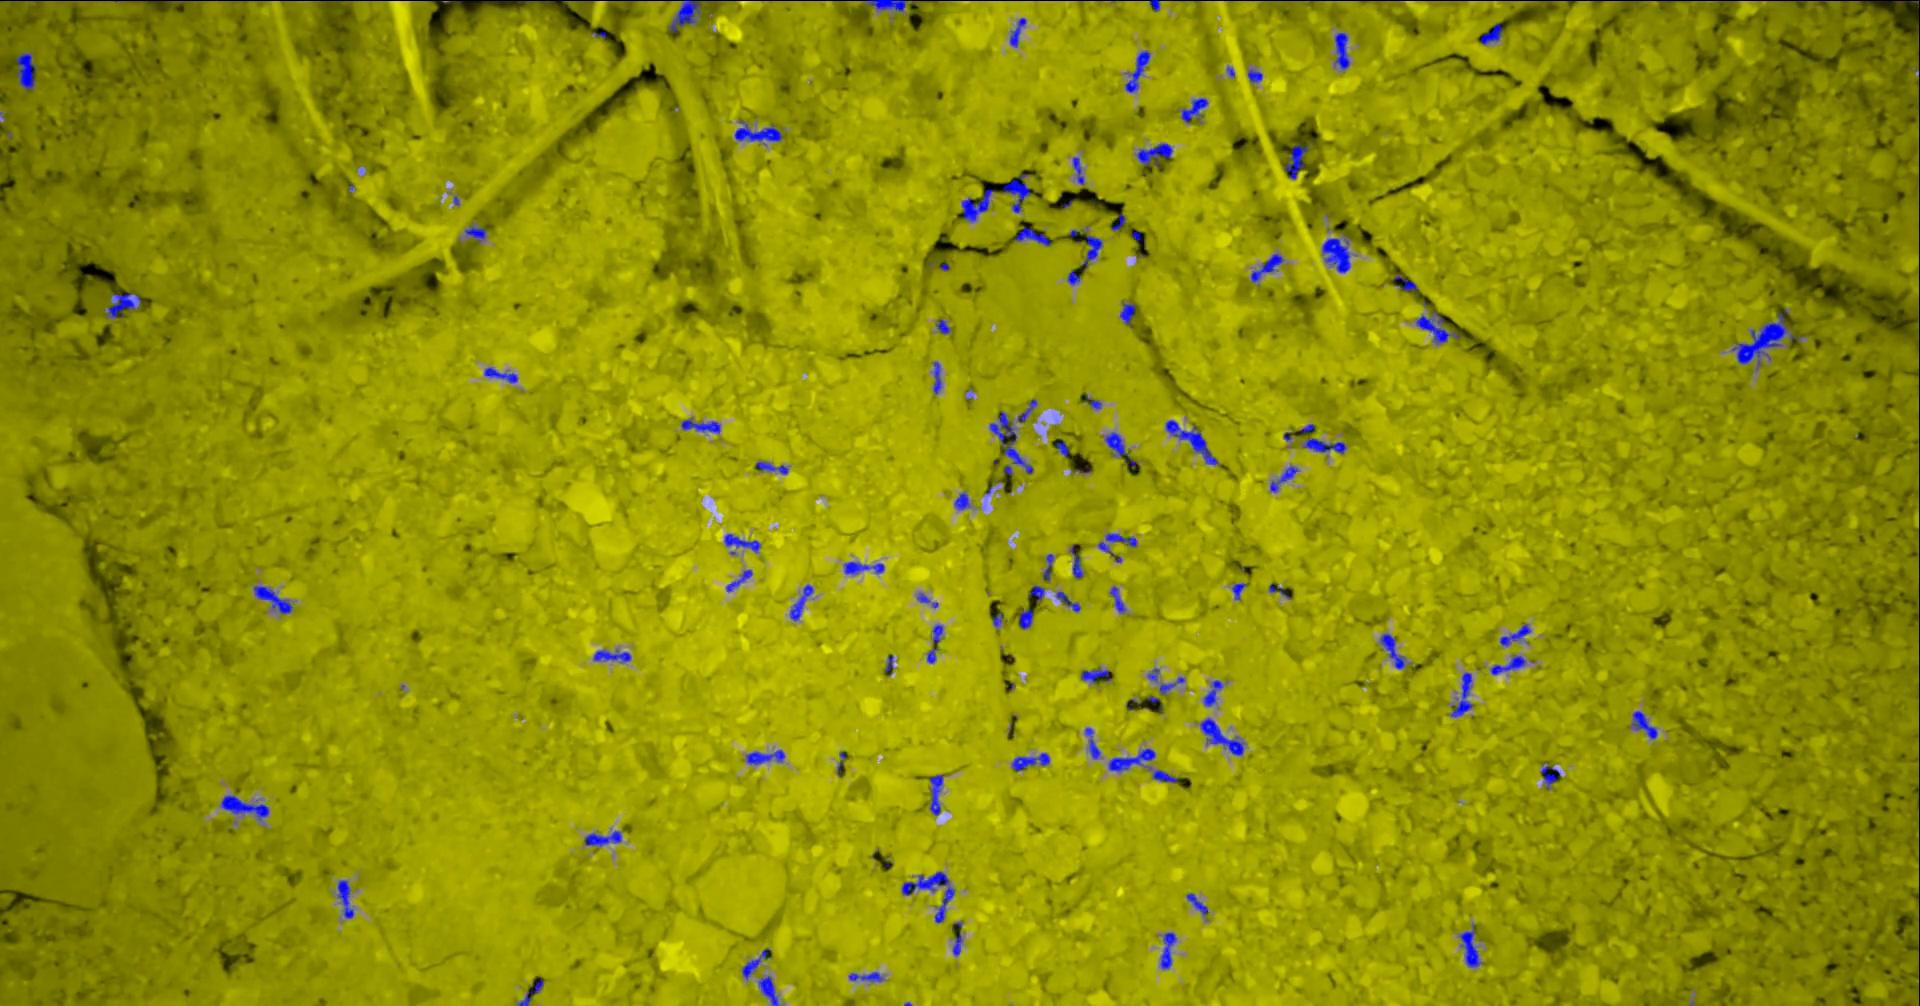ant: (1731, 307, 1787, 366), (989, 410, 1032, 473), (902, 871, 954, 922), (1164, 420, 1217, 464), (1200, 716, 1244, 754), (668, 0, 719, 32), (1415, 311, 1460, 343), (221, 794, 268, 821), (734, 119, 782, 144), (1105, 431, 1137, 466), (1002, 173, 1030, 212), (1097, 533, 1137, 561), (253, 586, 292, 614), (961, 187, 993, 221), (1109, 748, 1156, 771), (1125, 50, 1150, 91), (1321, 235, 1349, 272), (1450, 672, 1473, 716), (1250, 253, 1283, 282), (1459, 923, 1481, 967), (1379, 633, 1404, 668), (1283, 145, 1308, 179), (789, 584, 813, 620), (742, 948, 768, 979), (107, 292, 140, 318), (1137, 144, 1172, 166), (1498, 622, 1531, 647), (15, 52, 36, 89), (1269, 465, 1297, 492), (1490, 654, 1525, 674), (1081, 235, 1102, 268), (517, 978, 543, 1005), (1632, 710, 1657, 738), (1181, 97, 1208, 122), (1015, 226, 1050, 245), (724, 533, 759, 553), (1011, 752, 1049, 770), (1303, 438, 1346, 453), (583, 829, 621, 846), (337, 880, 353, 918), (758, 976, 778, 1005), (928, 774, 942, 815), (1161, 932, 1176, 969), (725, 569, 750, 591), (745, 749, 783, 763), (1479, 22, 1502, 44), (483, 367, 517, 382), (1335, 32, 1349, 69), (1203, 680, 1222, 706), (1540, 762, 1559, 789), (1079, 667, 1110, 683), (843, 561, 883, 574), (1186, 892, 1208, 915), (1055, 591, 1079, 611), (681, 419, 719, 432), (1084, 727, 1100, 758), (863, 0, 905, 11), (593, 649, 630, 662), (1010, 17, 1025, 47), (1109, 586, 1125, 612), (1017, 399, 1036, 422), (1393, 273, 1417, 291), (1159, 676, 1183, 694), (463, 225, 486, 243), (1070, 542, 1082, 578), (756, 461, 787, 474), (848, 970, 883, 982), (1152, 768, 1177, 782), (1119, 304, 1135, 324), (1269, 583, 1290, 598), (1072, 156, 1083, 184), (1043, 553, 1053, 580), (932, 361, 941, 392), (954, 492, 969, 509), (1230, 582, 1246, 600), (1018, 608, 1032, 627), (1027, 586, 1044, 601), (1054, 438, 1068, 456), (952, 932, 963, 955), (1111, 213, 1125, 230), (1247, 69, 1262, 83), (935, 318, 949, 333), (1067, 269, 1079, 285), (990, 611, 1003, 626), (932, 624, 942, 643), (926, 647, 937, 663), (112, 0, 201, 1)
